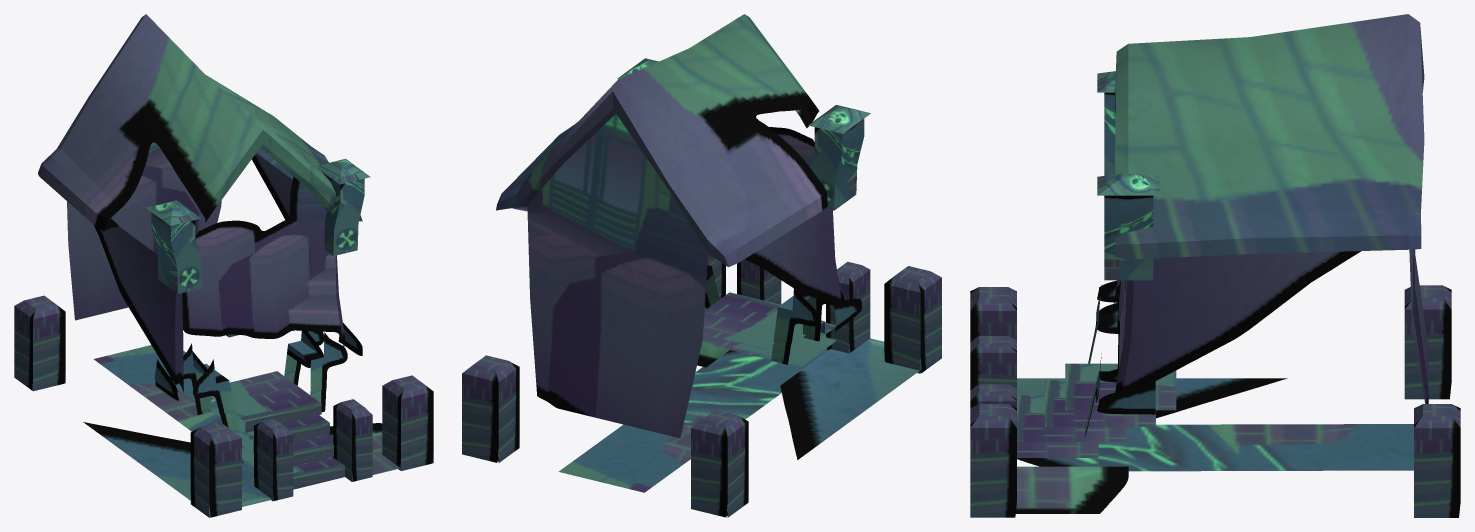
File: crypt.fbx
3 renders of one model, left to right at view 1: azimuth 30°, elevation 25°; view 2: azimuth 150°, elevation 25°; view 3: azimuth 270°, elevation 25°, orthographic. The views are drawn at different scales.
Visible parts, largest first — view 1: crypt1; view 2: crypt1; view 3: crypt1.
Boxes of the visible parts, x1=… form: crypt1: x1=14, y1=14, x2=433, y2=517; crypt1: x1=462, y1=14, x2=941, y2=517; crypt1: x1=970, y1=14, x2=1460, y2=517.
Size of the model in its own units: 196 by 278 by 284.
